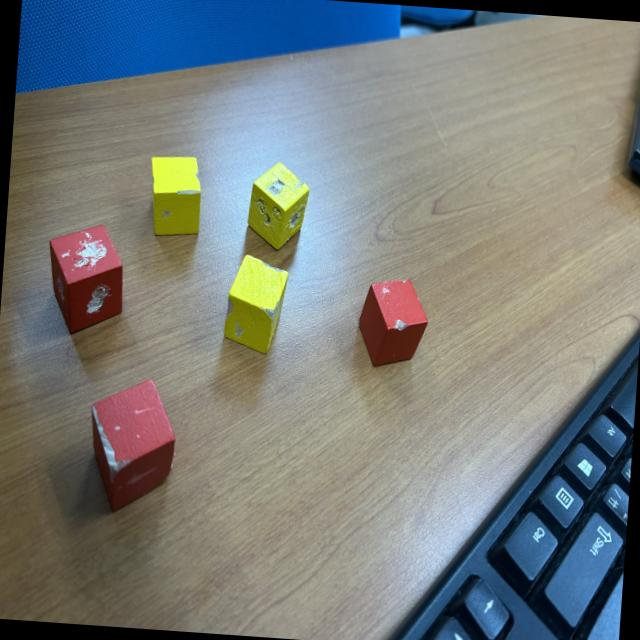broken: (84, 372, 179, 518), (43, 218, 128, 342), (222, 252, 290, 356), (357, 275, 430, 369), (244, 158, 311, 252), (146, 152, 204, 240)
